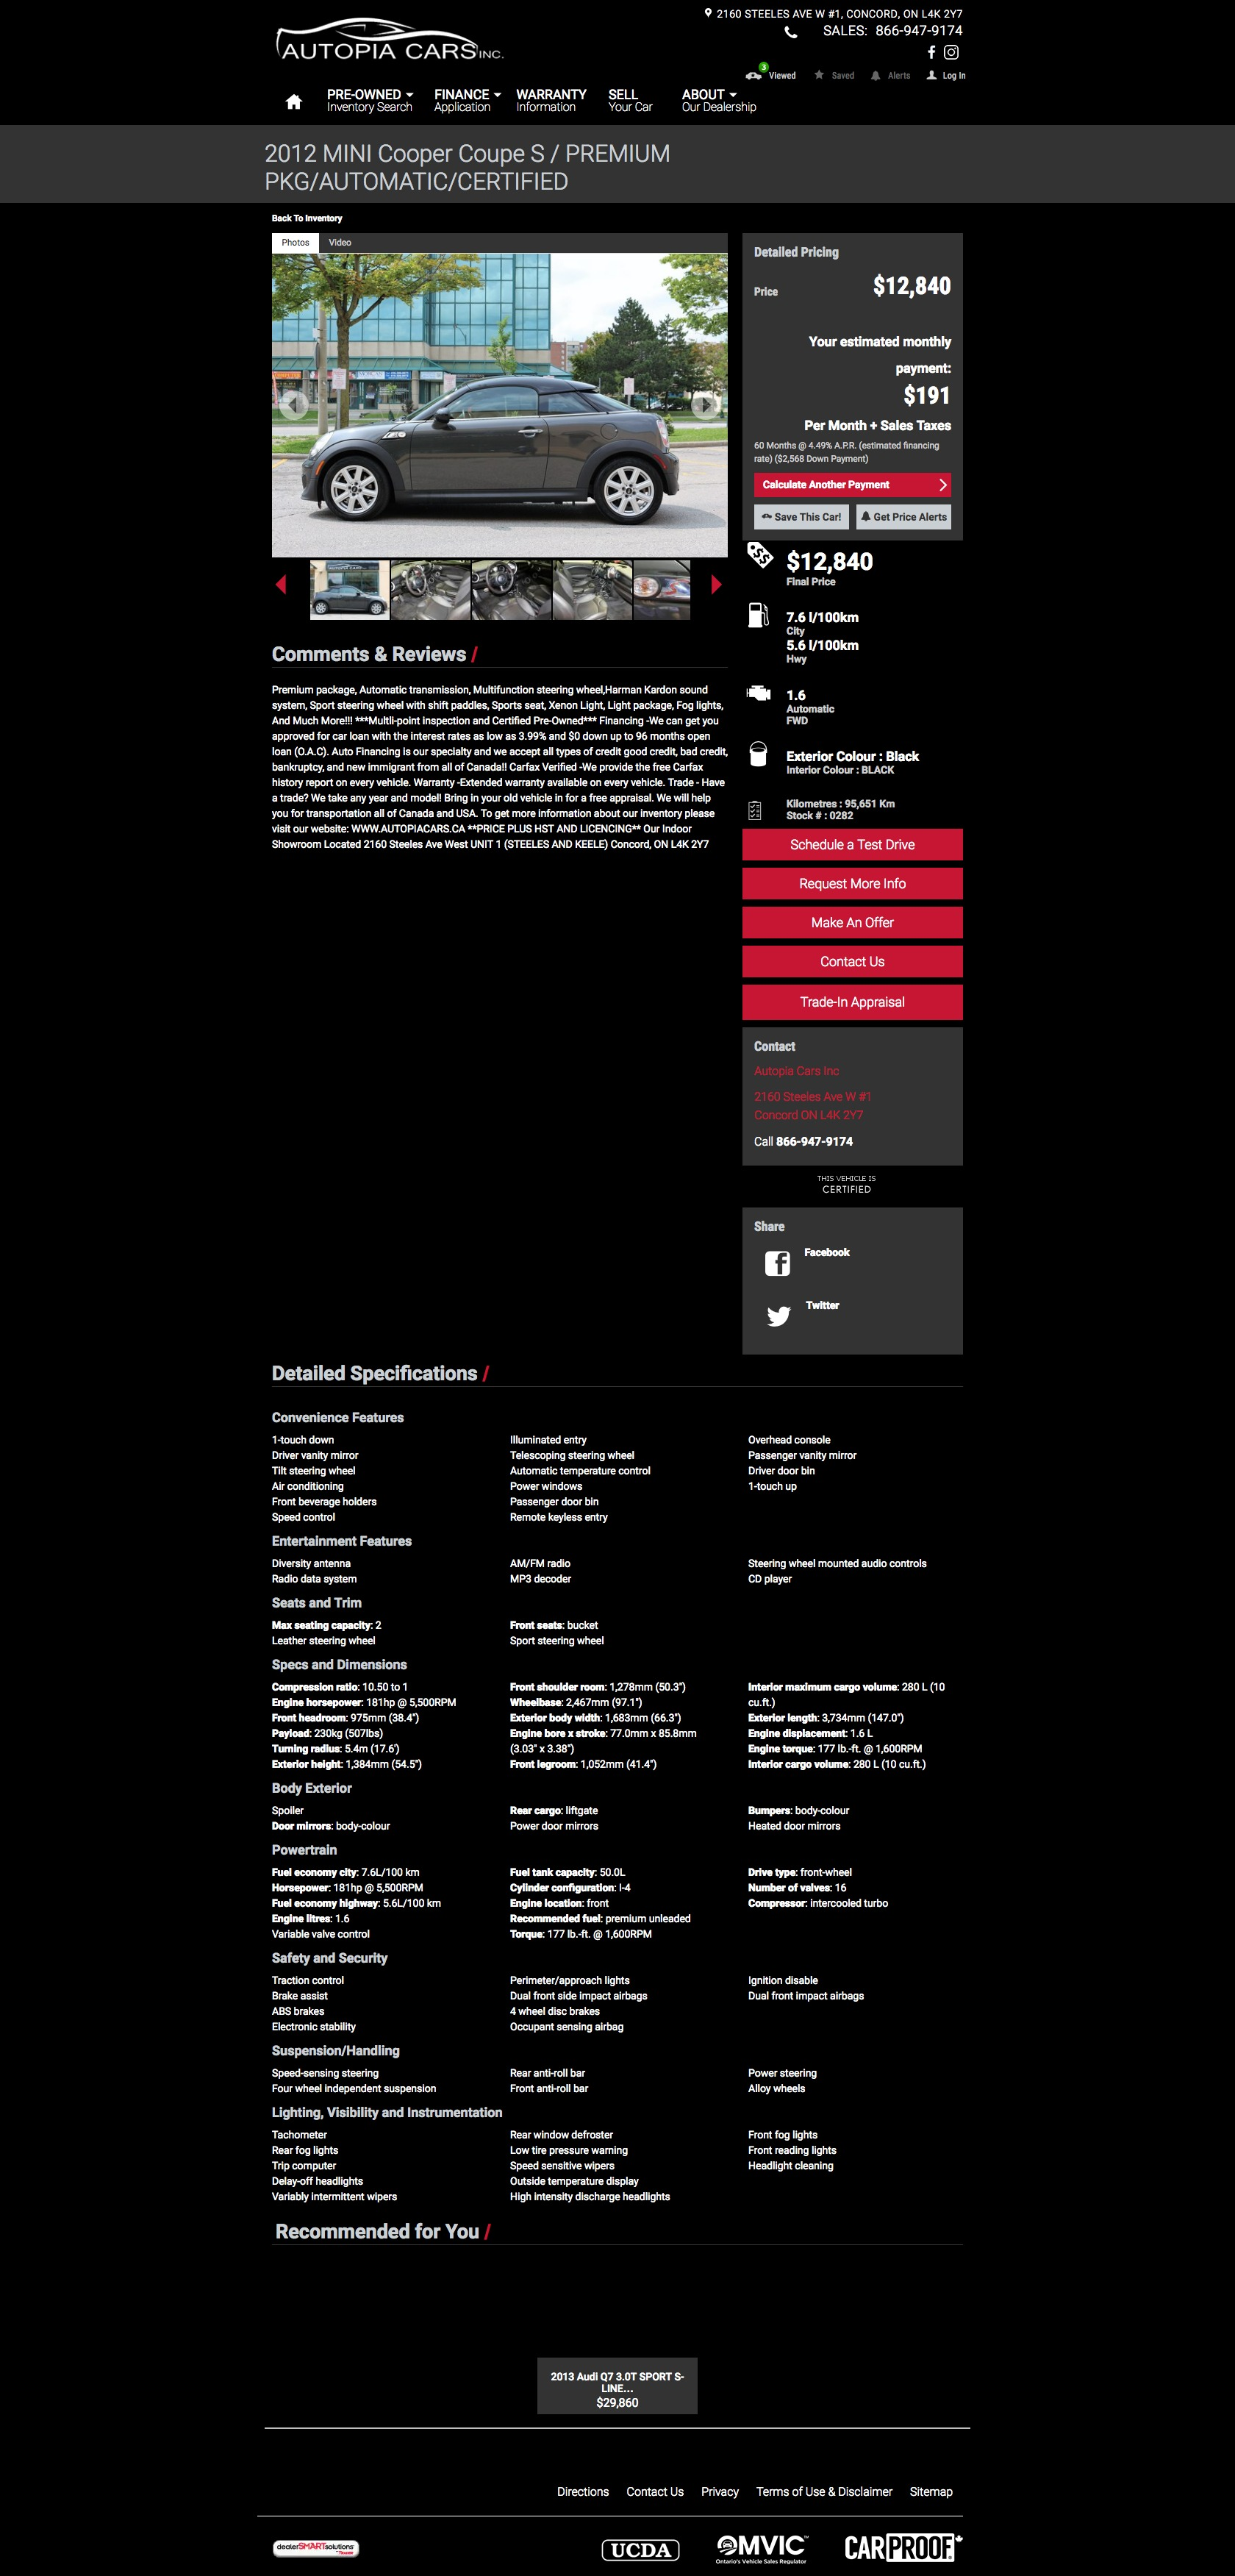car: (709, 575, 723, 596)
